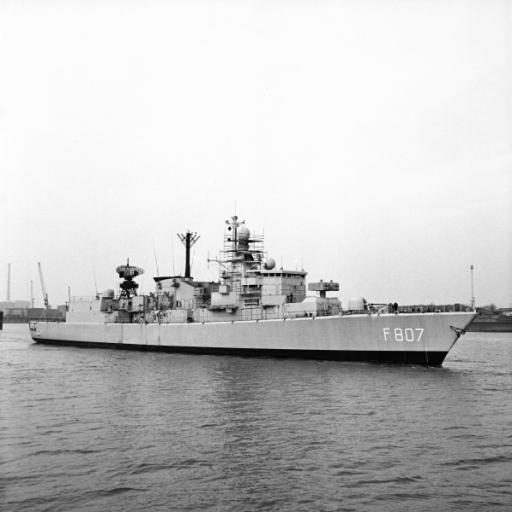Fragata: (21, 203, 484, 376)
